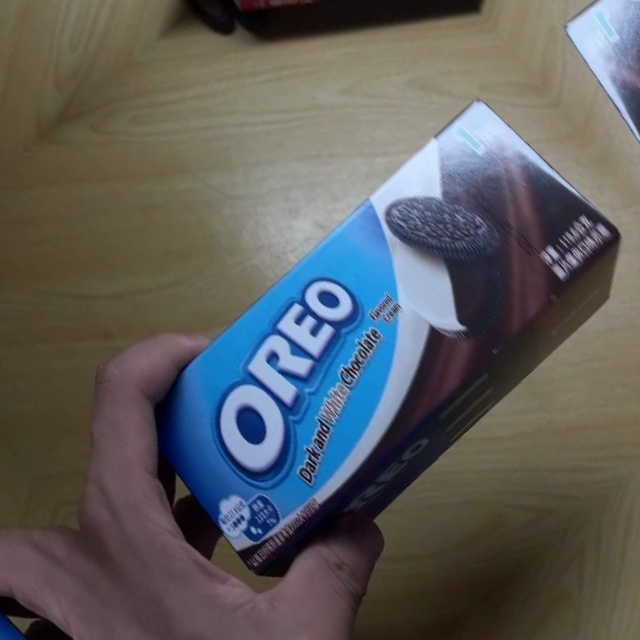Oreo: (109, 79, 640, 594)
